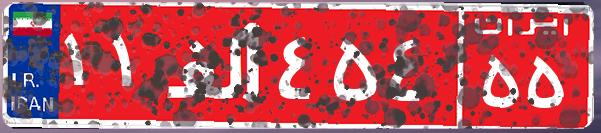1: (57, 26, 110, 107), (110, 28, 158, 105)
4: (385, 28, 445, 110), (273, 28, 330, 110)
5: (330, 28, 385, 110), (475, 38, 525, 113), (525, 38, 570, 115)
الف: (158, 15, 273, 115)
